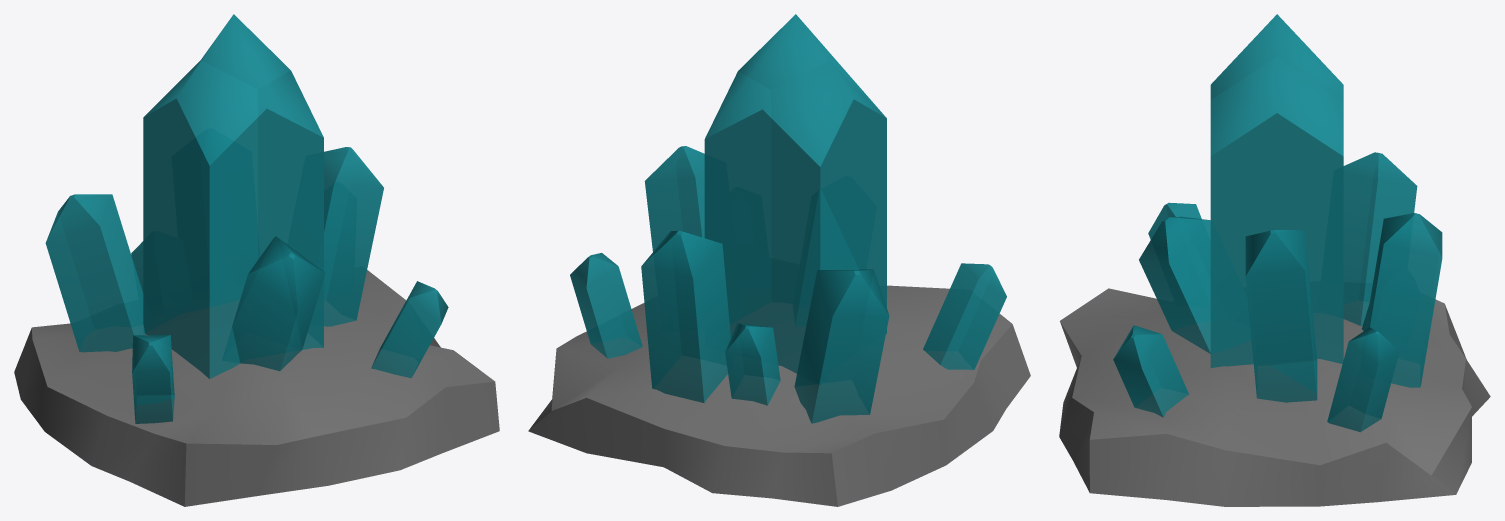
The model's file is Crystal 1.fbx.
The picture shows the model from 3 angles, left to right: view 1: azimuth 30°, elevation 25°; view 2: azimuth 150°, elevation 25°; view 3: azimuth 270°, elevation 25°; orthographic projection.
Visible parts, largest first — view 1: Crystal, Box004, Box005, Box008, Box003, Box010, Box009; view 2: Crystal, Box004, Box002, Box005, Box009, Box007, Box003, Box006, Box008; view 3: Crystal, Box004, Box003, Box008, Box002, Box005, Box007, Box010, Box009.
Part boxes in pixels (x1,y1,x2,y2): Crystal: [14, 270, 499, 506]; Box004: [143, 14, 323, 378]; Box005: [45, 194, 145, 352]; Box008: [222, 236, 325, 371]; Box003: [324, 147, 383, 326]; Box010: [371, 281, 448, 378]; Box009: [132, 335, 174, 423]; Crystal: [528, 285, 1030, 506]; Box004: [704, 14, 886, 384]; Box002: [641, 230, 730, 402]; Box005: [794, 269, 889, 423]; Box009: [923, 263, 1006, 369]; Box007: [570, 253, 642, 358]; Box003: [644, 146, 704, 251]; Box006: [725, 323, 780, 405]; Box008: [793, 190, 858, 325]; Crystal: [1059, 288, 1490, 506]; Box004: [1210, 14, 1343, 367]; Box003: [1245, 230, 1317, 402]; Box008: [1139, 216, 1250, 353]; Box002: [1365, 213, 1442, 387]; Box005: [1341, 152, 1417, 325]; Box007: [1327, 327, 1399, 432]; Box010: [1113, 325, 1188, 417]; Box009: [1148, 202, 1201, 239].
Size of the model in its own units: 27.7 by 28 by 27.79.
